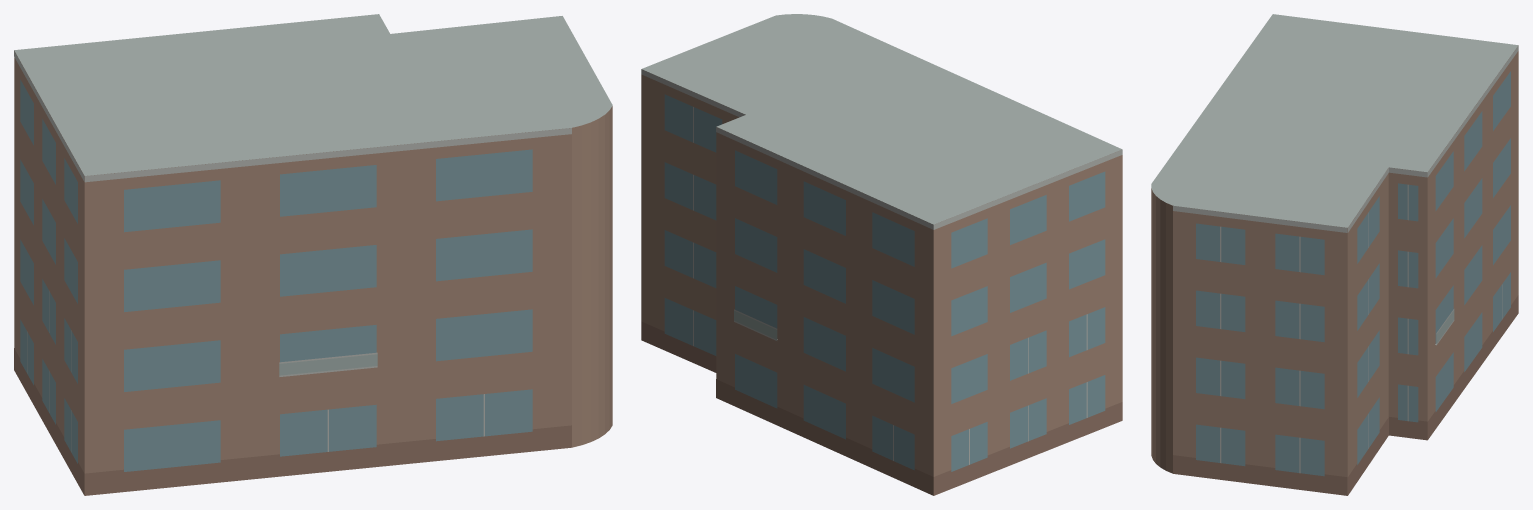
The model's file is survey-upis-32871968.glb.
3 views of the same model, side by side, from view 1: azimuth 30°, elevation 25°; view 2: azimuth 150°, elevation 25°; view 3: azimuth 270°, elevation 25° (orthographic). The views are drawn at different scales.
Parts seen in each view (by area): view 1: survey-upis-32871968.tmp; view 2: survey-upis-32871968.tmp; view 3: survey-upis-32871968.tmp.
Part boxes in pixels (box(x1,y1,x2,y2)): survey-upis-32871968.tmp: box(14, 14, 612, 495); survey-upis-32871968.tmp: box(641, 14, 1122, 495); survey-upis-32871968.tmp: box(1151, 14, 1518, 495).
Size of the model in its own units: 21.22 by 12.4 by 15.4.
